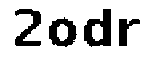2: (10, 6, 45, 53)
d: (82, 6, 116, 52)
o: (49, 15, 77, 48)
r: (119, 14, 141, 48)
